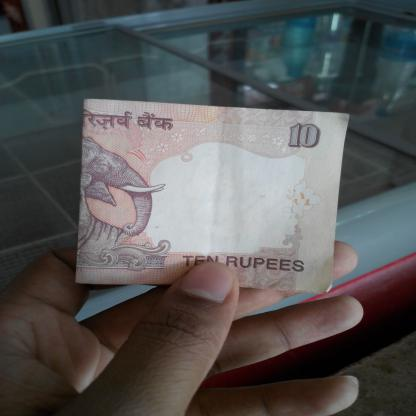Old10Back: (73, 96, 352, 295)
